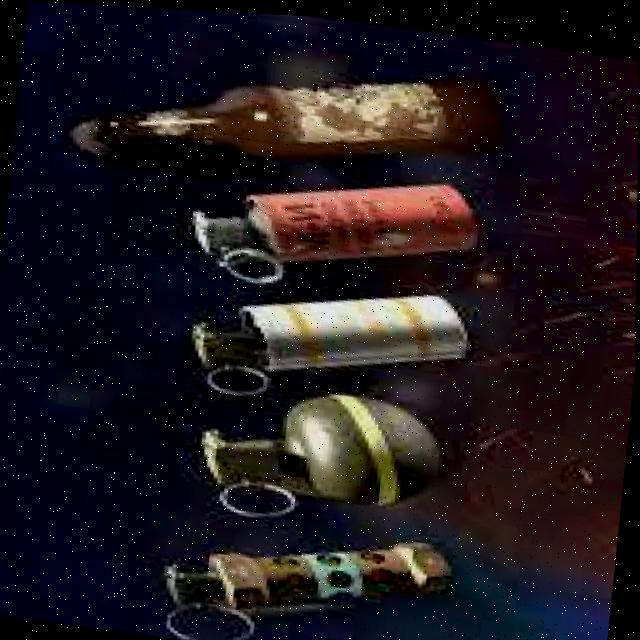grenade: (183, 142, 487, 309), (184, 256, 481, 424), (192, 366, 455, 540), (151, 497, 467, 640)
